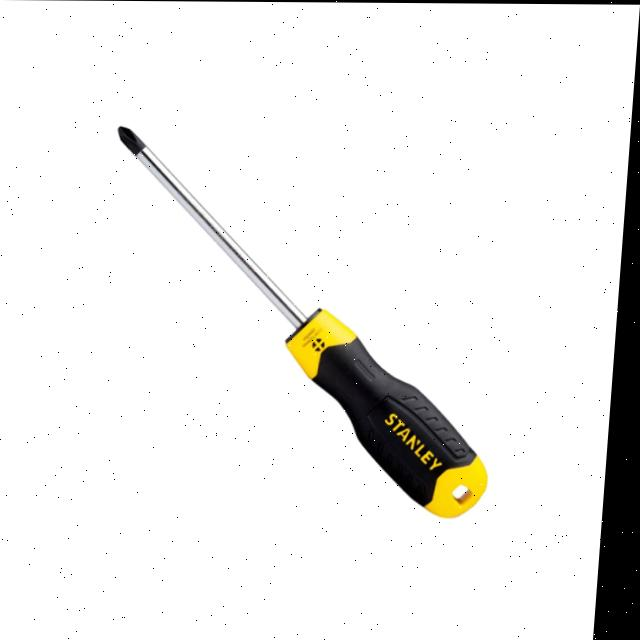Screwdriver: (120, 127, 495, 517)
